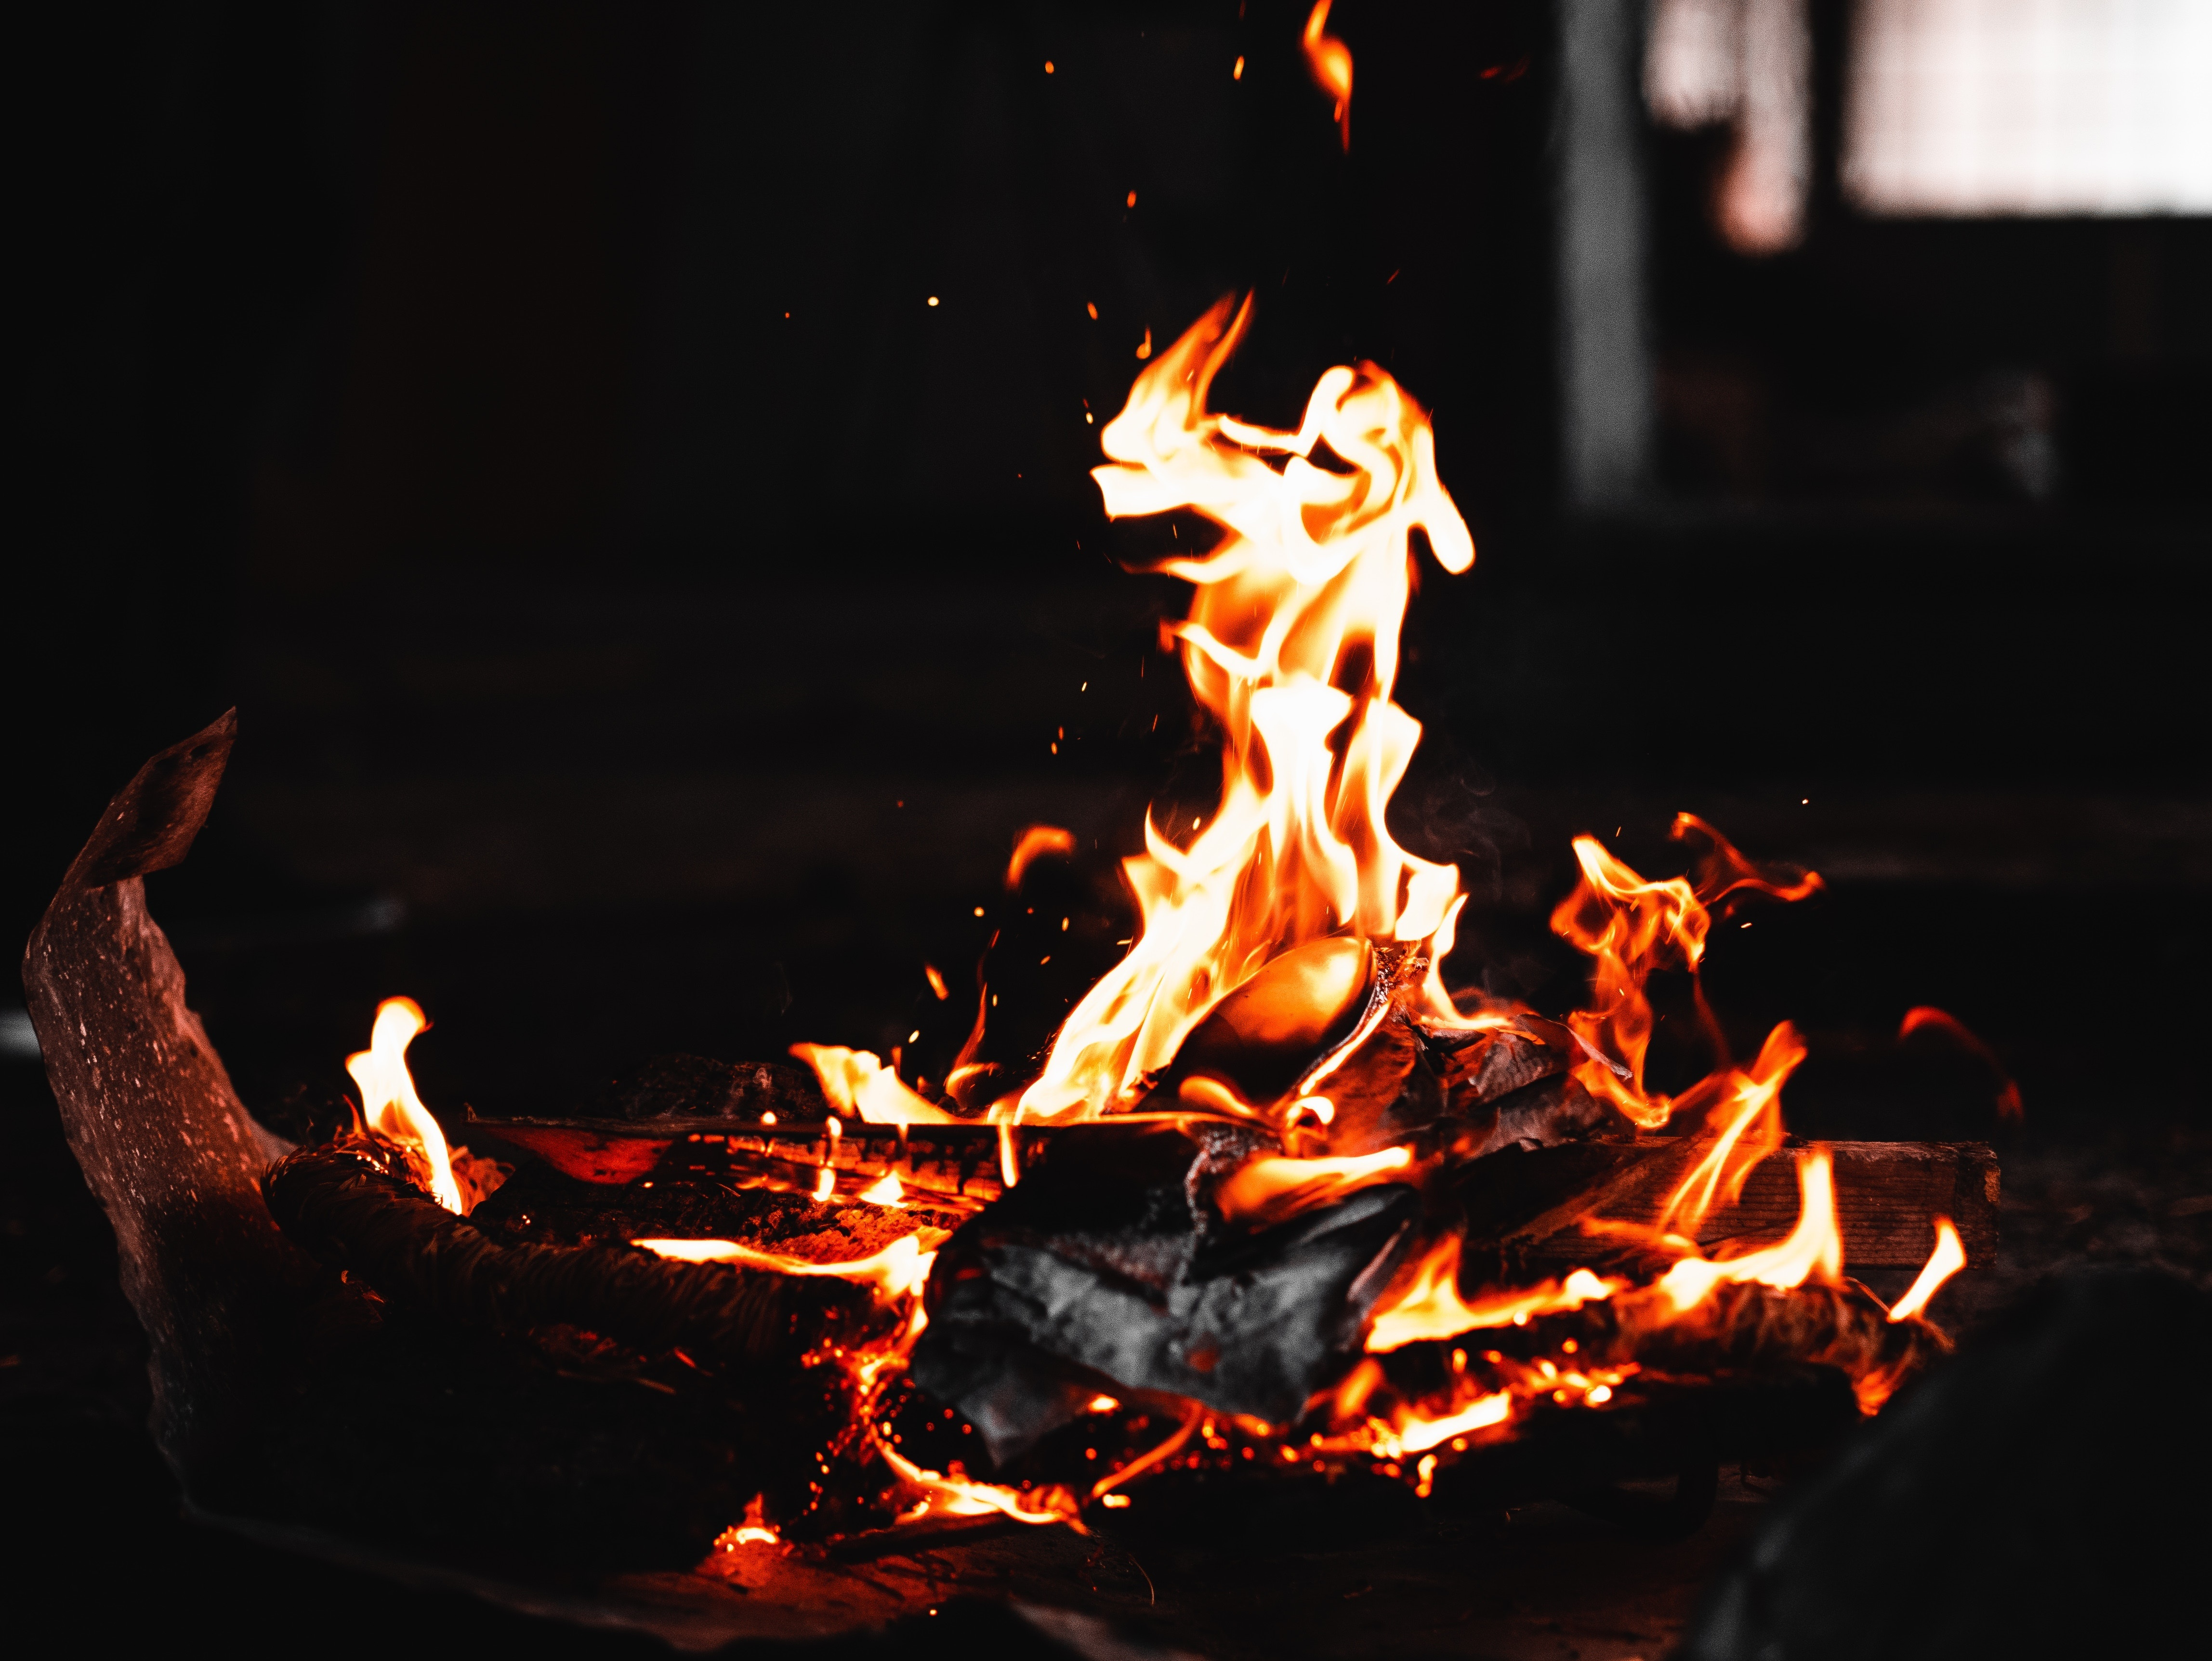fire: (611, 218, 1888, 1544)
